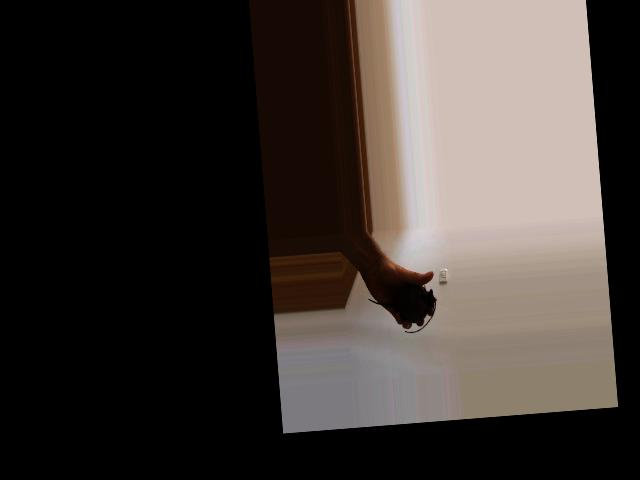beet: (367, 283, 438, 336)
